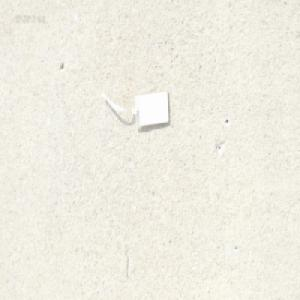LuggageTag: (101, 72, 172, 130)
